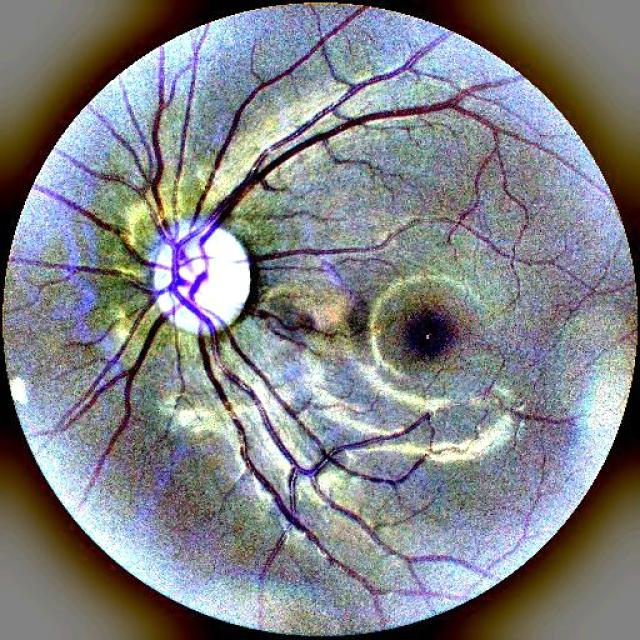Macula: (372, 281, 471, 376)
Optic Disk: (150, 221, 250, 335)
